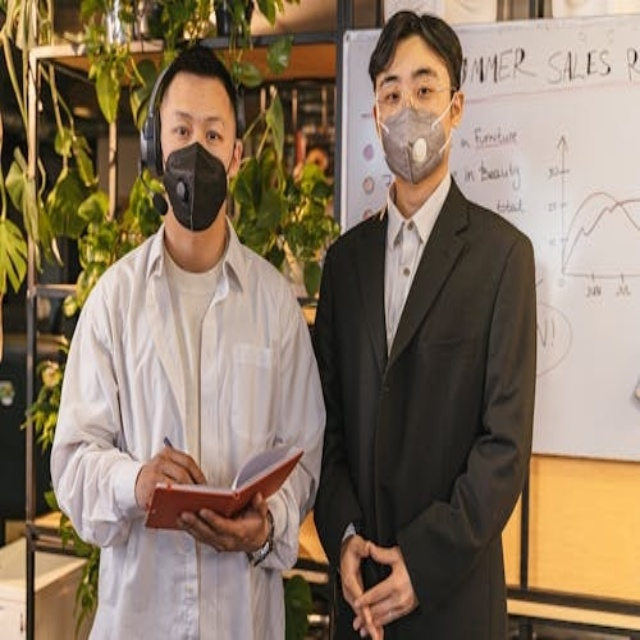Mascara: (379, 95, 453, 183), (161, 143, 227, 232)
Sin_gafas: (376, 65, 448, 104), (163, 110, 230, 140)
Sin_guantes: (335, 515, 420, 634), (178, 479, 275, 557), (131, 432, 205, 502)
